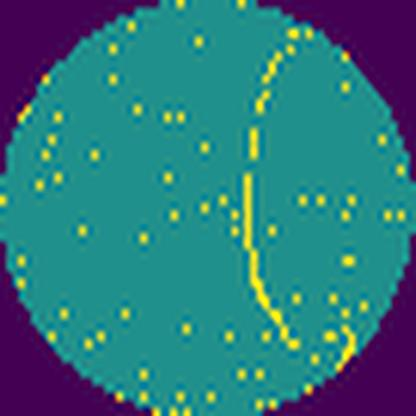Scratch: (239, 21, 309, 357)
